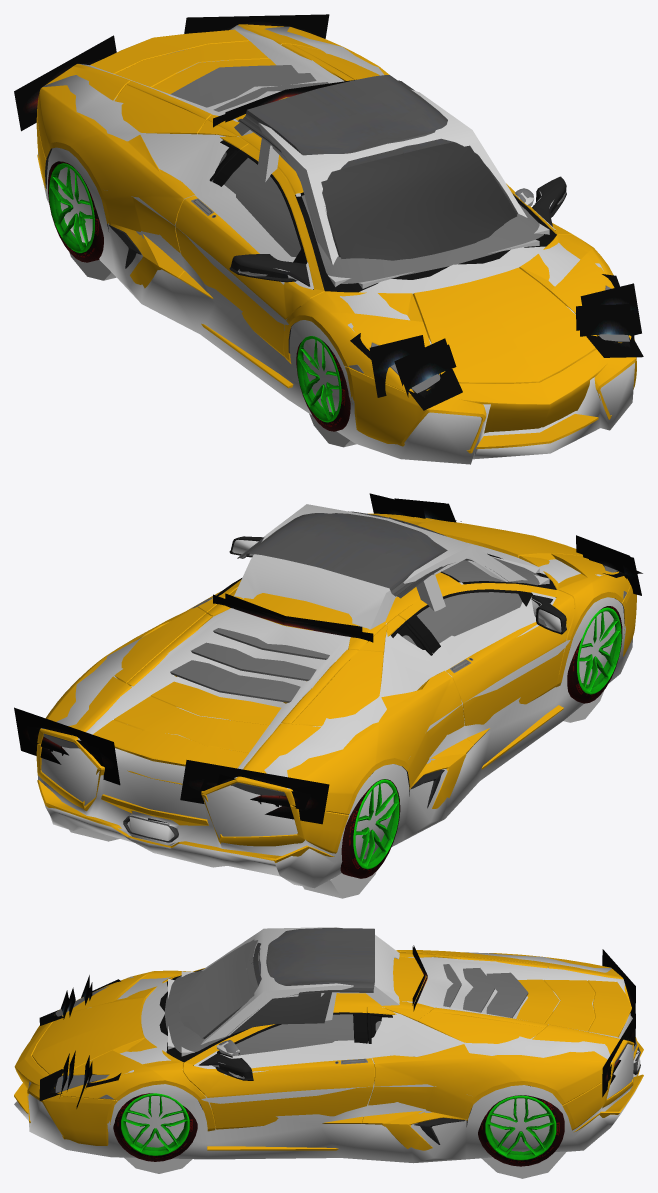
The model's file is P_car-001_Estallador.fbx.
3 renders of one model, top to bottom at view 1: azimuth 30°, elevation 25°; view 2: azimuth 150°, elevation 25°; view 3: azimuth 270°, elevation 25°, orthographic. The views are drawn at different scales.
Parts seen in each view (by area): view 1: M_Car-001_Body_Estallador_01, M_Car-001_ShadowForm_Estallador_01, M_Car-Interior_Glass_01, M_Car-001_Glass_Estallador_01, M_Car-Interior_Details_01, M_Car-001_FrontFlares_Estallador_01, M_Car-Interior_Shadowform_01, M_Car-001_Details_Estallador_01, M_Car-001_BackFlareBrake_Estallador_01, M_CarWheel_004_AP_02 (×2), M_CarWheel_004_AP_01 (×2), M_CarTire_004_AP_02 (×2); view 2: M_Car-001_Body_Estallador_01, M_Car-001_ShadowForm_Estallador_01, M_Car-001_Glass_Estallador_01, M_Car-Interior_Shadowform_01, M_Car-Interior_Details_01, M_Car-001_BackFlareBrake_Estallador_01, M_Car-001_Details_Estallador_01, M_Car-001_FrontFlares_Estallador_01, M_CarWheel_004_AP_01 (×2), M_CarWheel_004_AP_02 (×2), M_CarTire_004_AP_02 (×2); view 3: M_Car-001_Body_Estallador_01, M_Car-001_ShadowForm_Estallador_01, M_Car-001_Glass_Estallador_01, M_Car-Interior_Details_01, M_Car-Interior_Glass_01, M_Car-Interior_Shadowform_01, M_Car-001_Details_Estallador_01, M_CarWheel_004_AP_01 (×2), M_CarWheel_004_AP_02 (×2), M_Car-001_FrontFlares_Estallador_01, M_Car-001_BackFlareBrake_Estallador_01, M_CarTire_004_AP_02 (×2) (+1 smaller).
Boxes of the visible parts, box(x1,y1,x2,y2) form: M_Car-001_Body_Estallador_01: box(36, 24, 636, 453); M_Car-001_ShadowForm_Estallador_01: box(38, 25, 634, 464); M_Car-Interior_Glass_01: box(321, 142, 516, 260); M_Car-001_Glass_Estallador_01: box(170, 65, 629, 393); M_Car-Interior_Details_01: box(238, 75, 533, 258); M_Car-001_FrontFlares_Estallador_01: box(350, 274, 643, 410); M_Car-Interior_Shadowform_01: box(234, 89, 549, 288); M_Car-001_Details_Estallador_01: box(45, 140, 566, 373); M_Car-001_BackFlareBrake_Estallador_01: box(14, 14, 356, 131); M_CarWheel_004_AP_02 (×2): box(49, 163, 341, 422); M_CarWheel_004_AP_01 (×2): box(48, 161, 350, 431); M_CarTire_004_AP_02 (×2): box(55, 198, 338, 419); M_Car-001_Body_Estallador_01: box(36, 513, 636, 862); M_Car-001_ShadowForm_Estallador_01: box(37, 539, 632, 898); M_Car-001_Glass_Estallador_01: box(43, 513, 617, 795); M_Car-Interior_Shadowform_01: box(234, 504, 549, 629); M_Car-Interior_Details_01: box(237, 511, 508, 598); M_Car-001_BackFlareBrake_Estallador_01: box(14, 593, 373, 824); M_Car-001_Details_Estallador_01: box(123, 536, 626, 842); M_Car-001_FrontFlares_Estallador_01: box(369, 493, 642, 595); M_CarWheel_004_AP_01 (×2): box(340, 606, 622, 878); M_CarWheel_004_AP_02 (×2): box(353, 607, 621, 869); M_CarTire_004_AP_02 (×2): box(358, 631, 619, 866); M_Car-001_Body_Estallador_01: box(14, 950, 643, 1150); M_Car-001_ShadowForm_Estallador_01: box(14, 952, 640, 1178); M_Car-001_Glass_Estallador_01: box(55, 964, 627, 1092); M_Car-Interior_Details_01: box(202, 928, 374, 1055); M_Car-Interior_Glass_01: box(179, 940, 332, 1038); M_Car-Interior_Shadowform_01: box(168, 927, 399, 1056); M_Car-001_Details_Estallador_01: box(100, 969, 640, 1144); M_CarWheel_004_AP_01 (×2): box(113, 1093, 564, 1166); M_CarWheel_004_AP_02 (×2): box(121, 1093, 556, 1160); M_Car-001_FrontFlares_Estallador_01: box(39, 975, 121, 1108); M_Car-001_BackFlareBrake_Estallador_01: box(412, 945, 635, 1097); M_CarTire_004_AP_02 (×2): box(131, 1119, 552, 1155).
Bounding box in the file's own units: 2.23 × 1.44 × 4.69.
